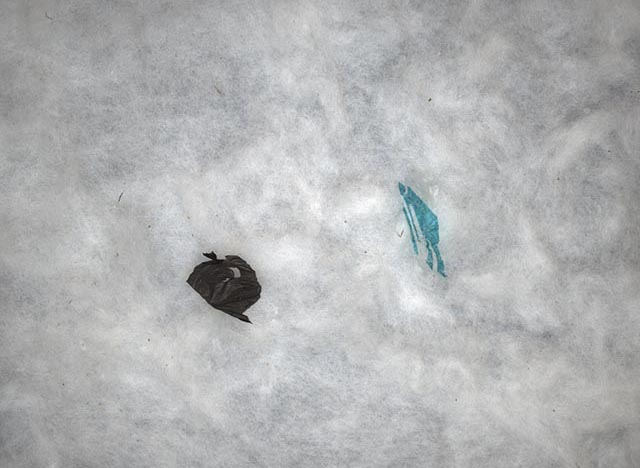plastic film: (186, 250, 263, 325), (395, 181, 451, 282)
